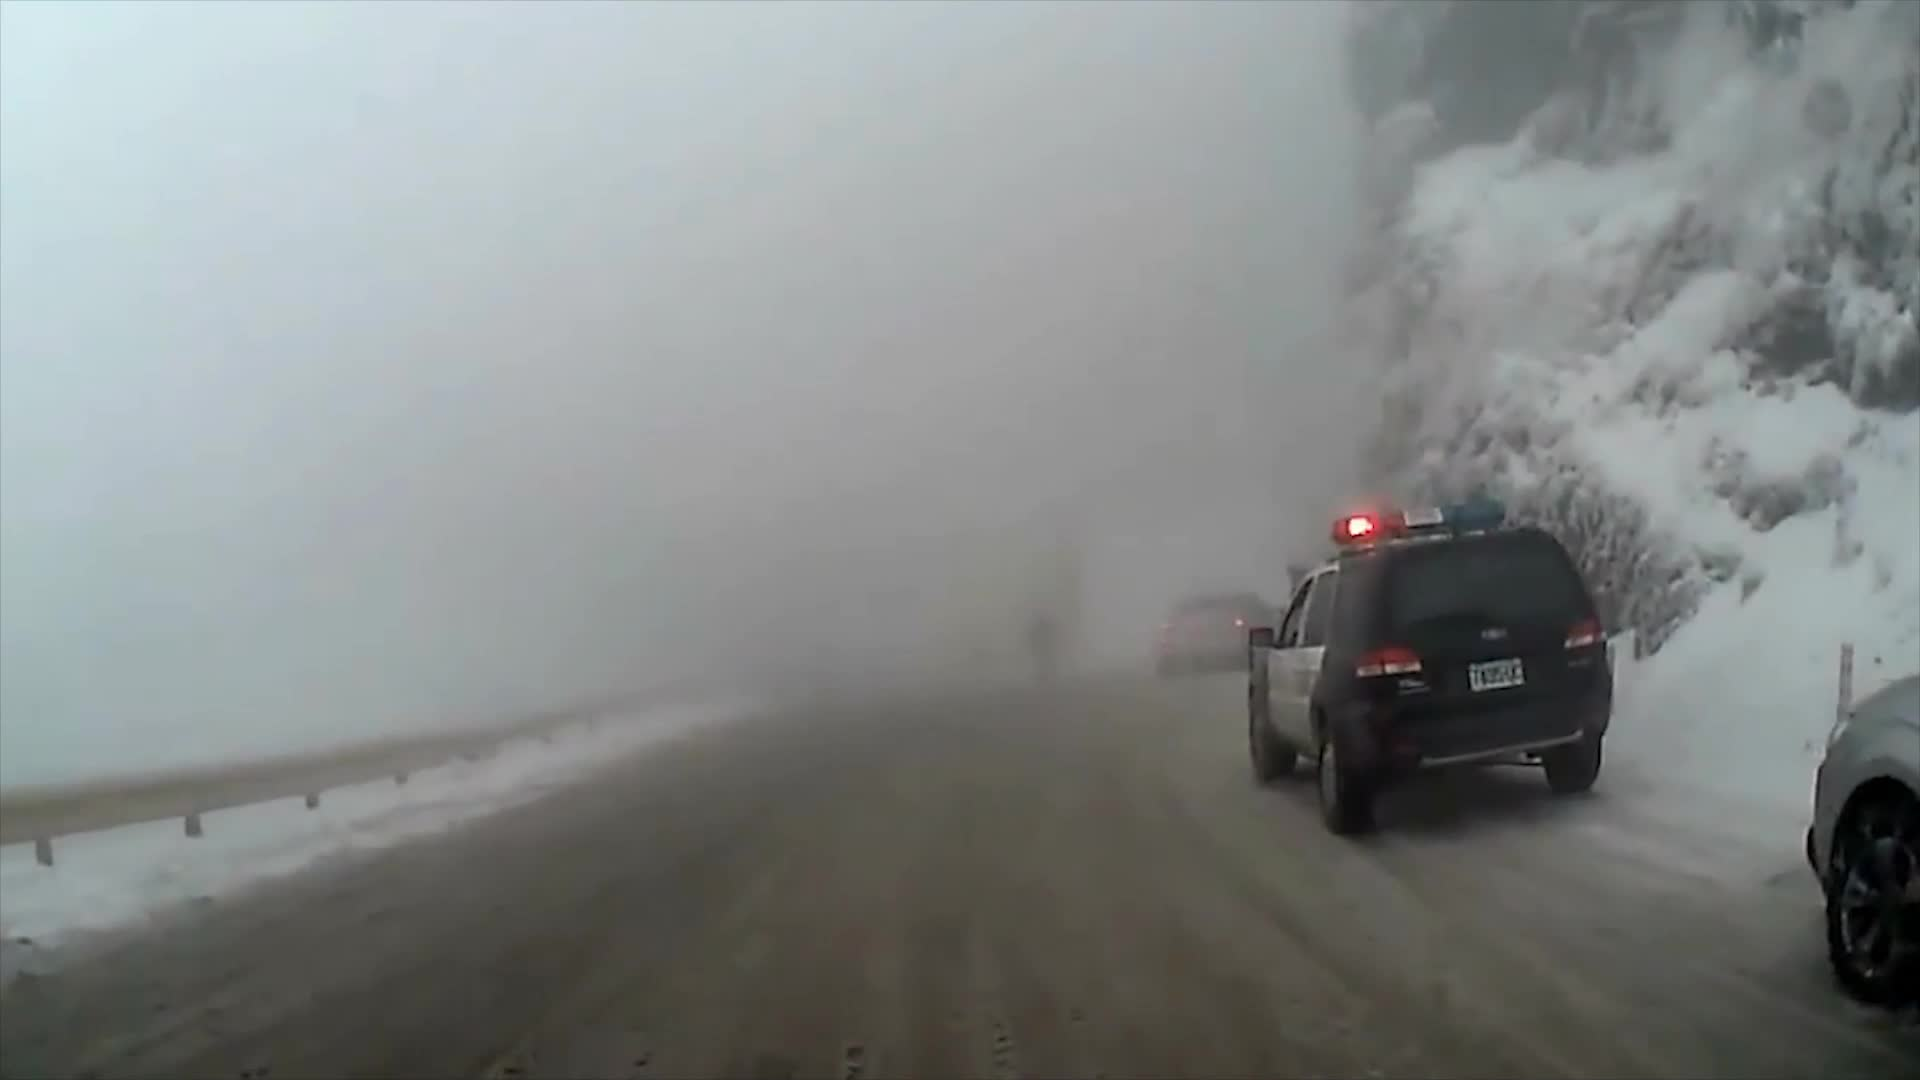vehicle: (1244, 497, 1614, 840), (1799, 680, 1919, 1004), (1155, 587, 1279, 676)
